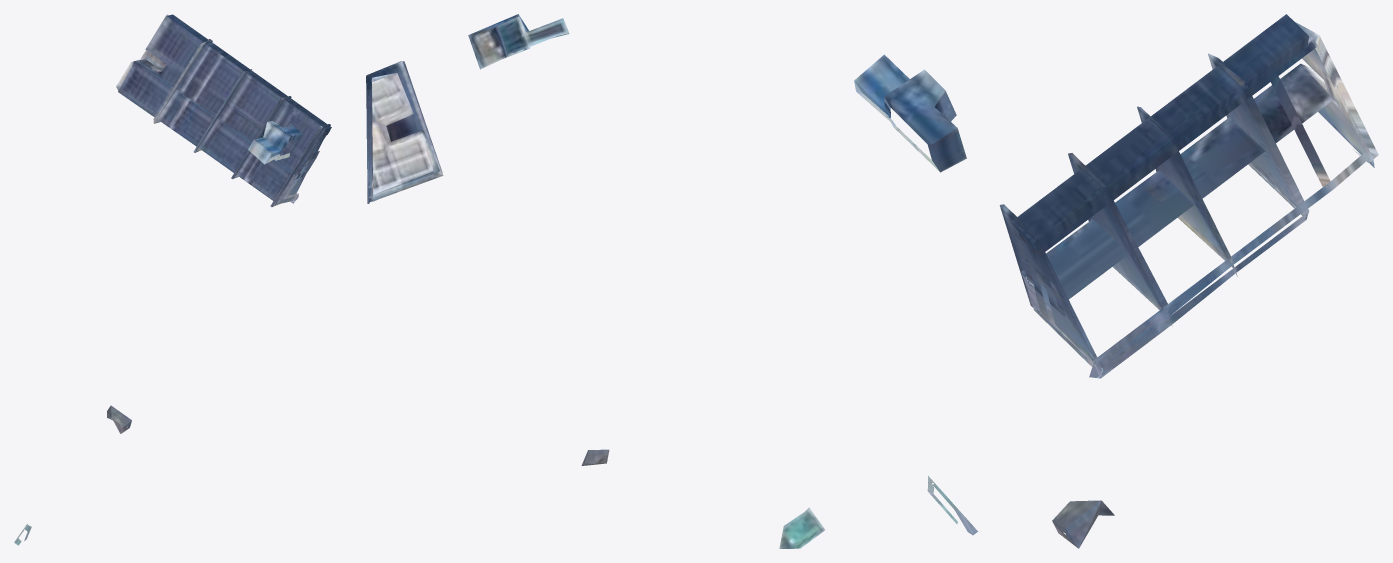
3 views of the same model, side by side, from view 1: azimuth 30°, elevation 25°; view 2: azimuth 150°, elevation 25°; view 3: azimuth 270°, elevation 25° (orthographic). The views are drawn at different scales.
Bounding box in the file's own units: 130 × 146 × 95.63.
Materials: 1 (1 with a texture image).
